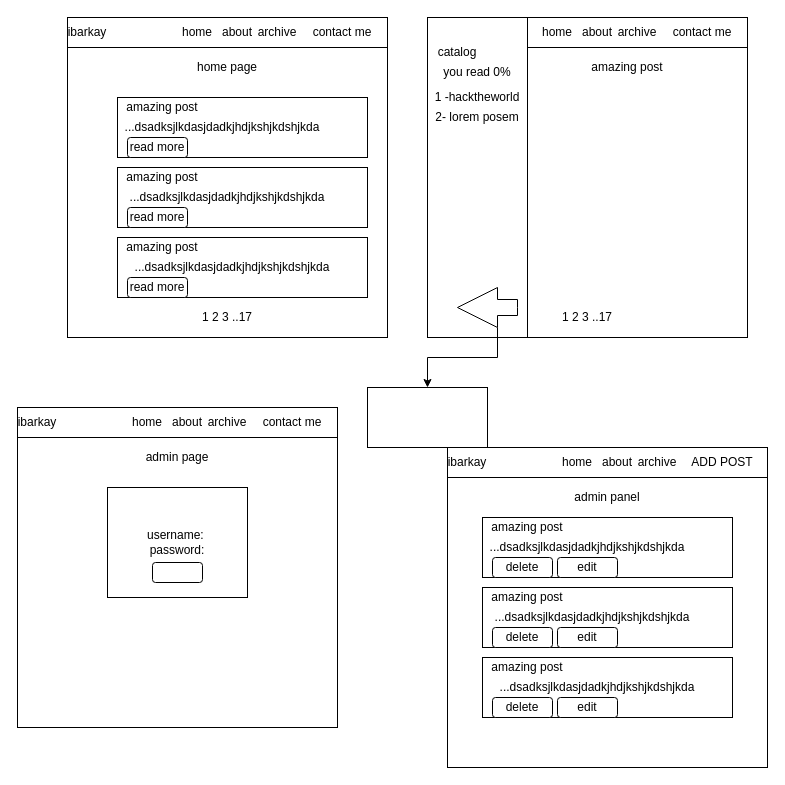
This 785x785 diagram has some shape labels left out. Here are the shapes that lost their labels. From the top down, the centre of each, then its label:
At pixel 427 417: "will resize main site to full size".
At pixel 177 572: "login".
